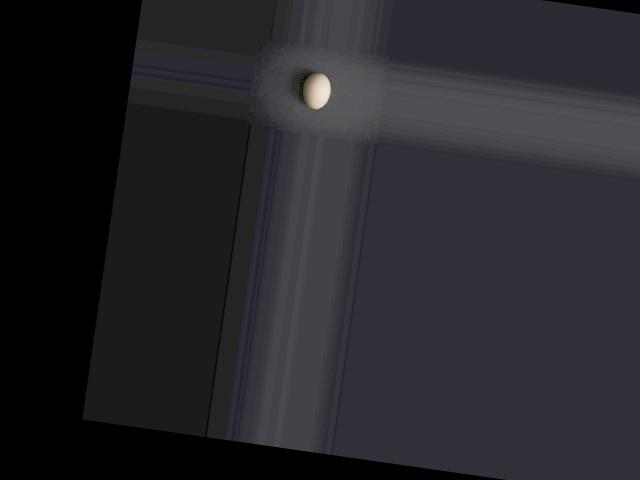egg: (301, 70, 333, 111)
